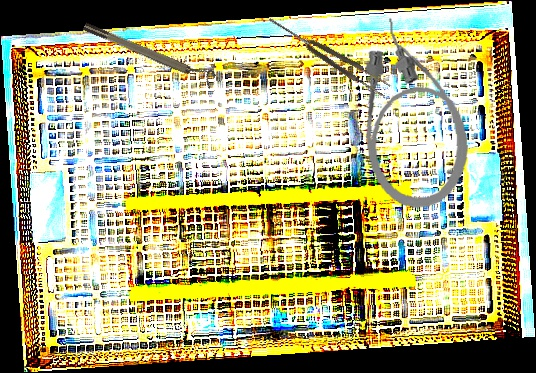Cannula: (356, 12, 473, 214)
Fixation Ring: (81, 14, 218, 90)
Tissue Forceps: (265, 11, 392, 99)
